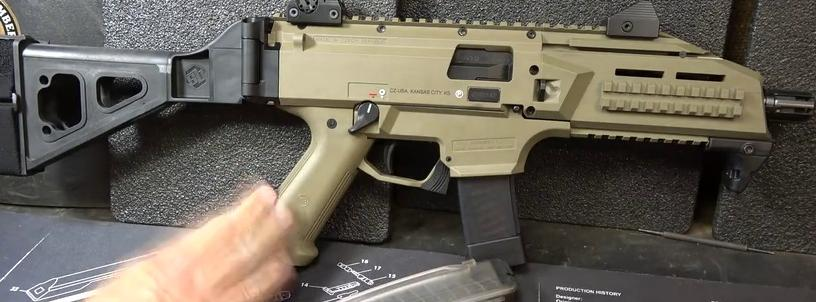gun: (1, 1, 816, 302)
